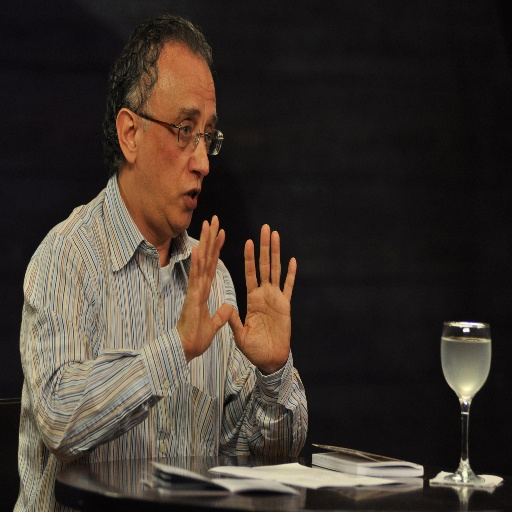hand: (237, 217, 303, 386), (175, 214, 233, 357)
